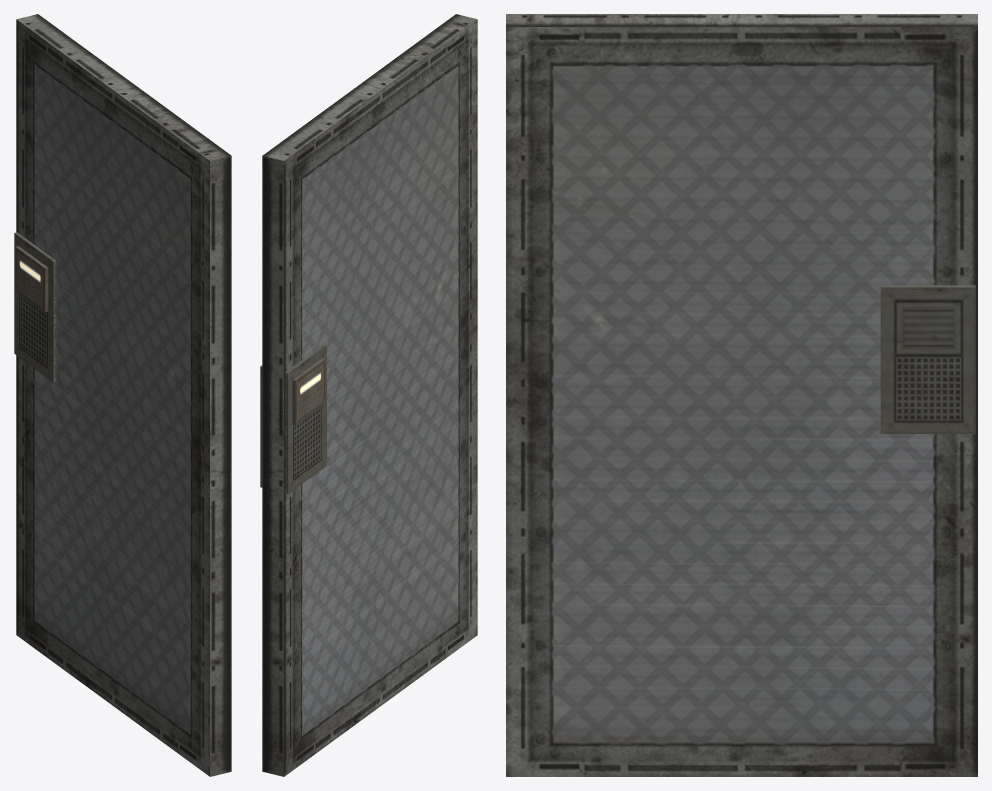
The model's file is door_glass.fbx.
The picture shows the model from 3 angles, left to right: view 1: azimuth 30°, elevation 25°; view 2: azimuth 150°, elevation 25°; view 3: azimuth 270°, elevation 25°; orthographic projection. The views are drawn at different scales.
Parts seen in each view (by area): view 1: Mesh; view 2: Mesh; view 3: Mesh.
Boxes of the visible parts, x1=… form: Mesh: x1=14, y1=14, x2=231, y2=776; Mesh: x1=260, y1=14, x2=477, y2=776; Mesh: x1=506, y1=14, x2=977, y2=776.
Bounding box in the file's own units: 10.57 × 200 × 114.
